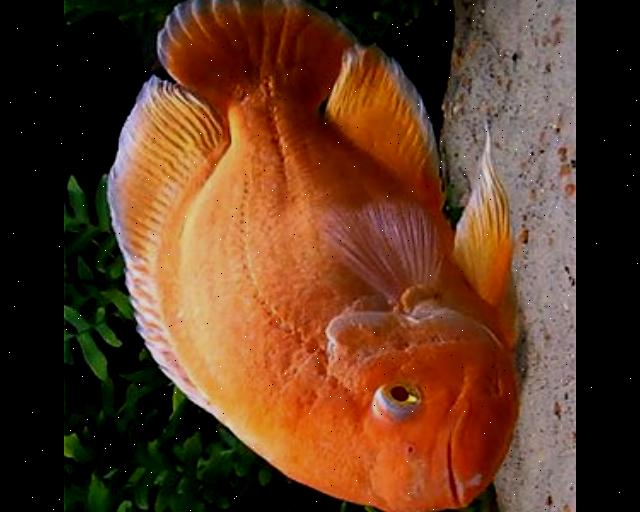Mulut: (423, 406, 500, 512)
Sirip Anal: (302, 45, 442, 195)
Sirip Dada: (308, 197, 446, 291)
Sirip Ekor: (140, 0, 365, 109)
Sirip Perut: (442, 120, 516, 306)
Sirip Punggung: (97, 78, 230, 400)
